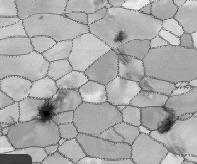good_void: (34, 90, 74, 124), (155, 105, 180, 134), (108, 46, 131, 66), (113, 27, 128, 46), (38, 14, 45, 21)
